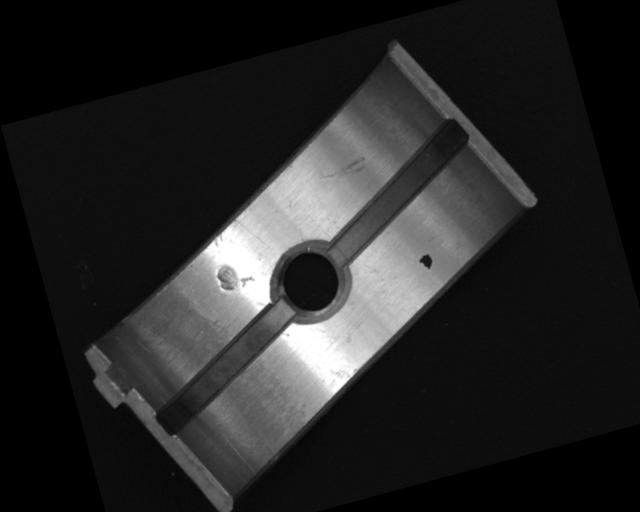blot: (417, 252, 434, 272)
bruise: (213, 257, 257, 295)
gap: (308, 117, 489, 267), (138, 300, 314, 436)
hole: (265, 235, 354, 330)
nick: (315, 154, 369, 184)
